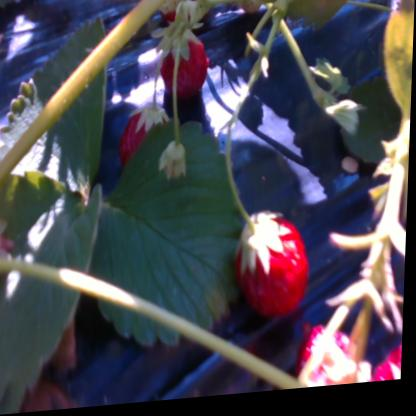ripe: (240, 214, 319, 326), (157, 33, 214, 107), (301, 320, 358, 394), (119, 106, 171, 167), (145, 0, 218, 31)
